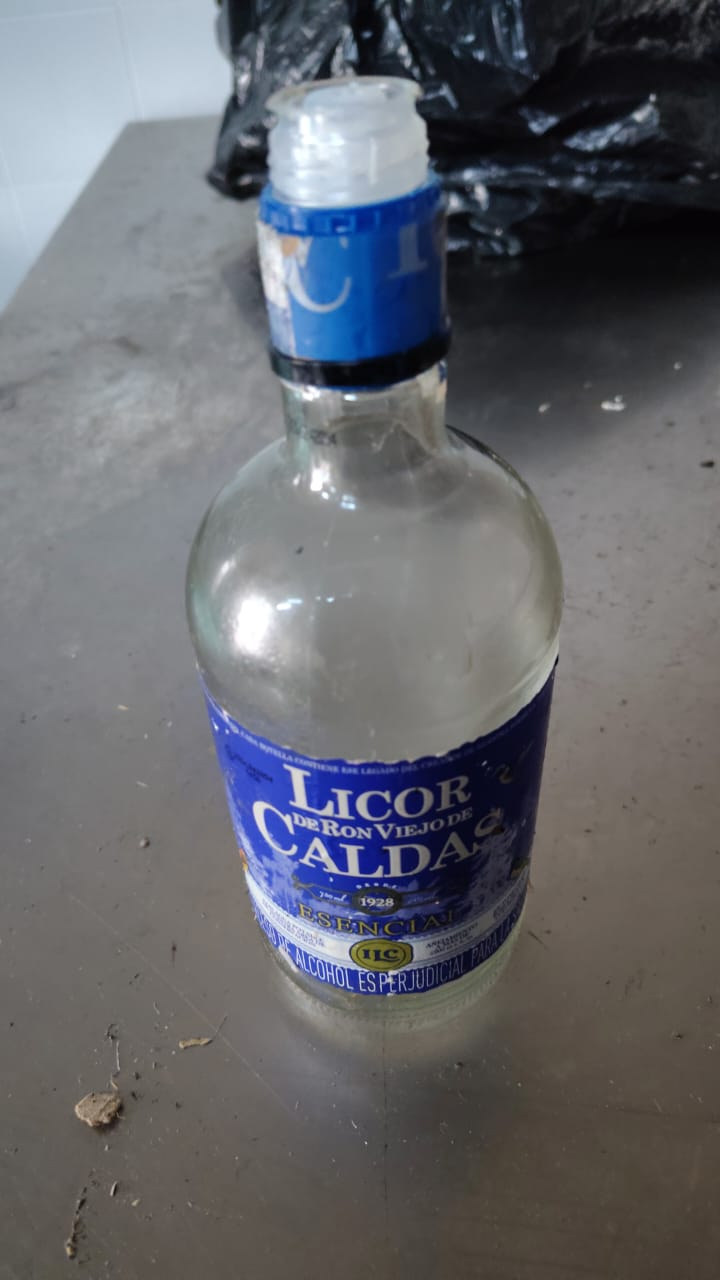Vidrio: (184, 82, 566, 1018)
